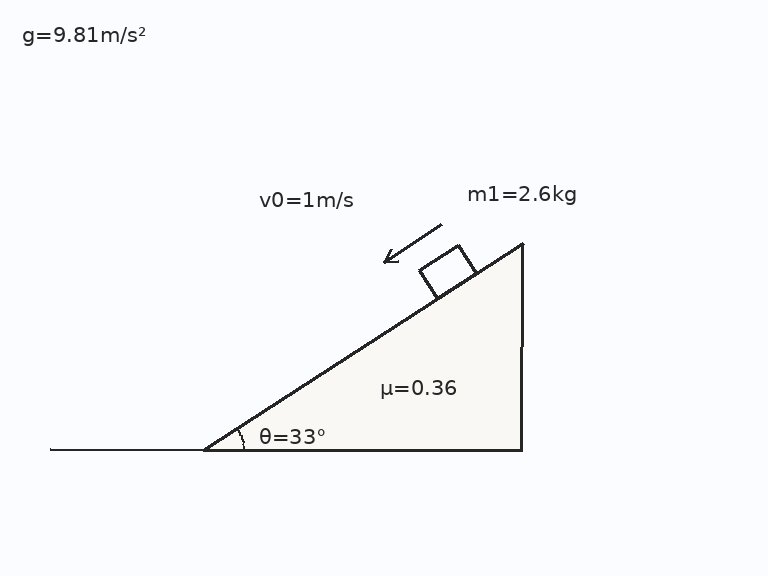block: (417, 243, 478, 300)
ramp: (202, 241, 525, 452)
